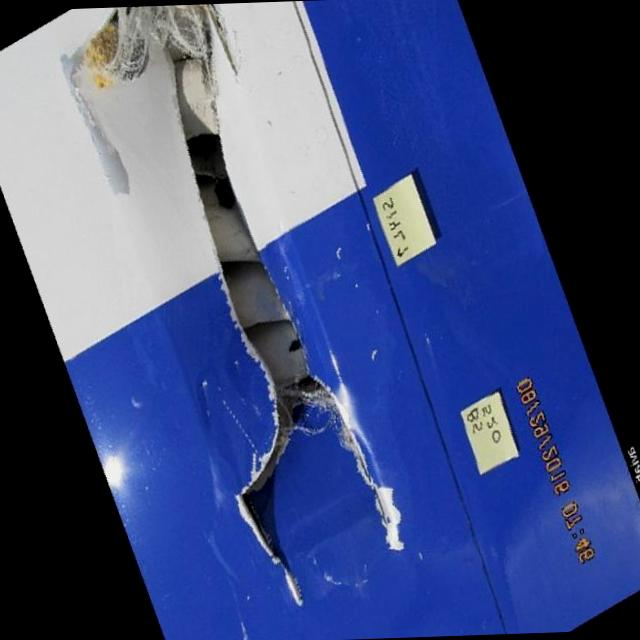crack: (322, 440, 398, 536)
